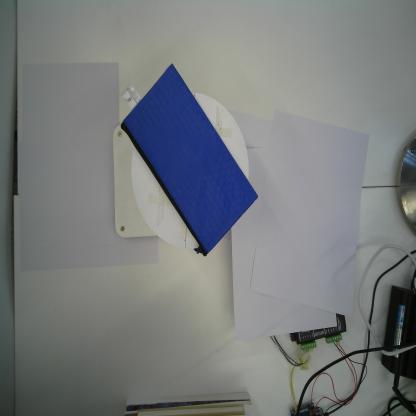Stationery: (120, 63, 258, 258)
